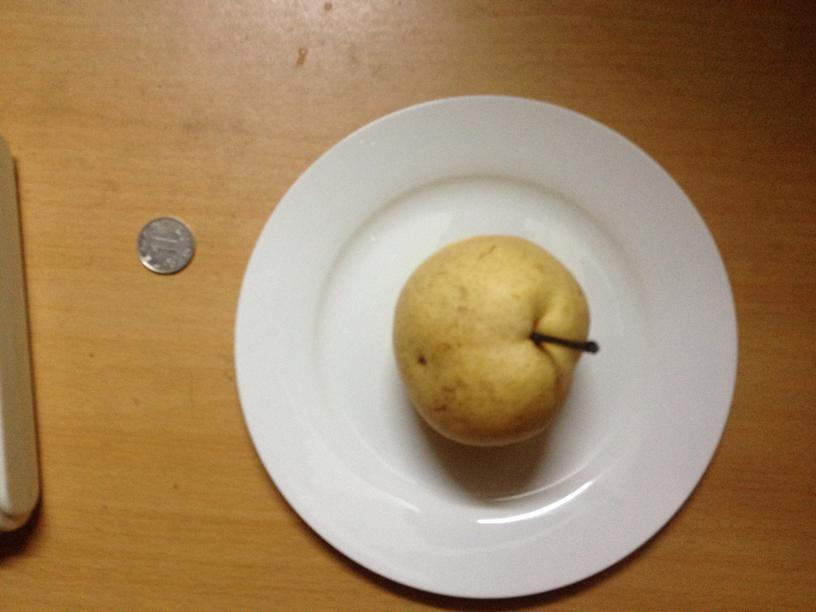coin: (136, 213, 194, 274)
pear: (392, 233, 593, 445)
